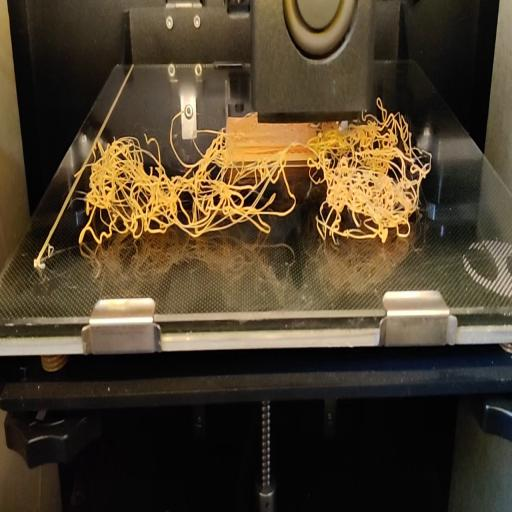spaghetti: (71, 109, 436, 246)
